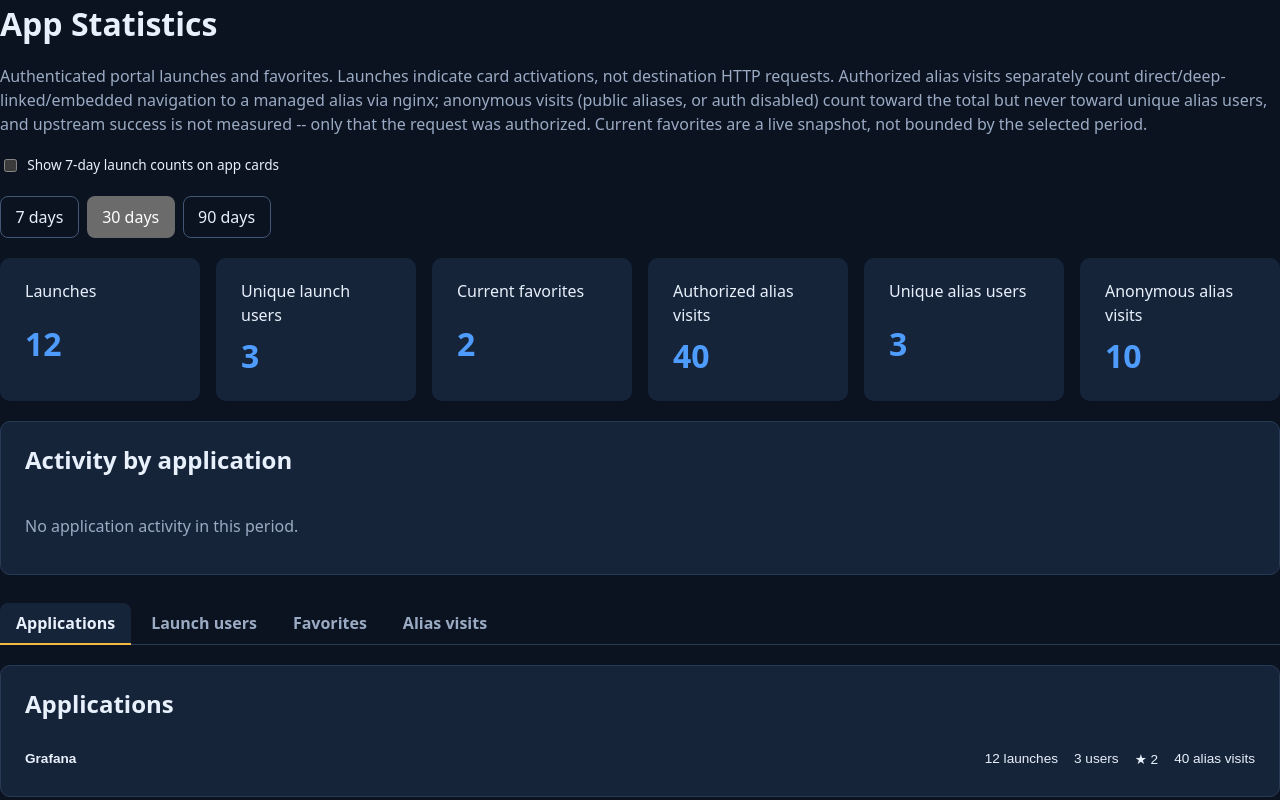
AppStatisticsView › shows the complete launch-users list on its tab
Expected: the text "Authorized alias visits" is shown, [673,280,794,326]
Click the button "Launch users": (204, 624) [135,603,273,645]
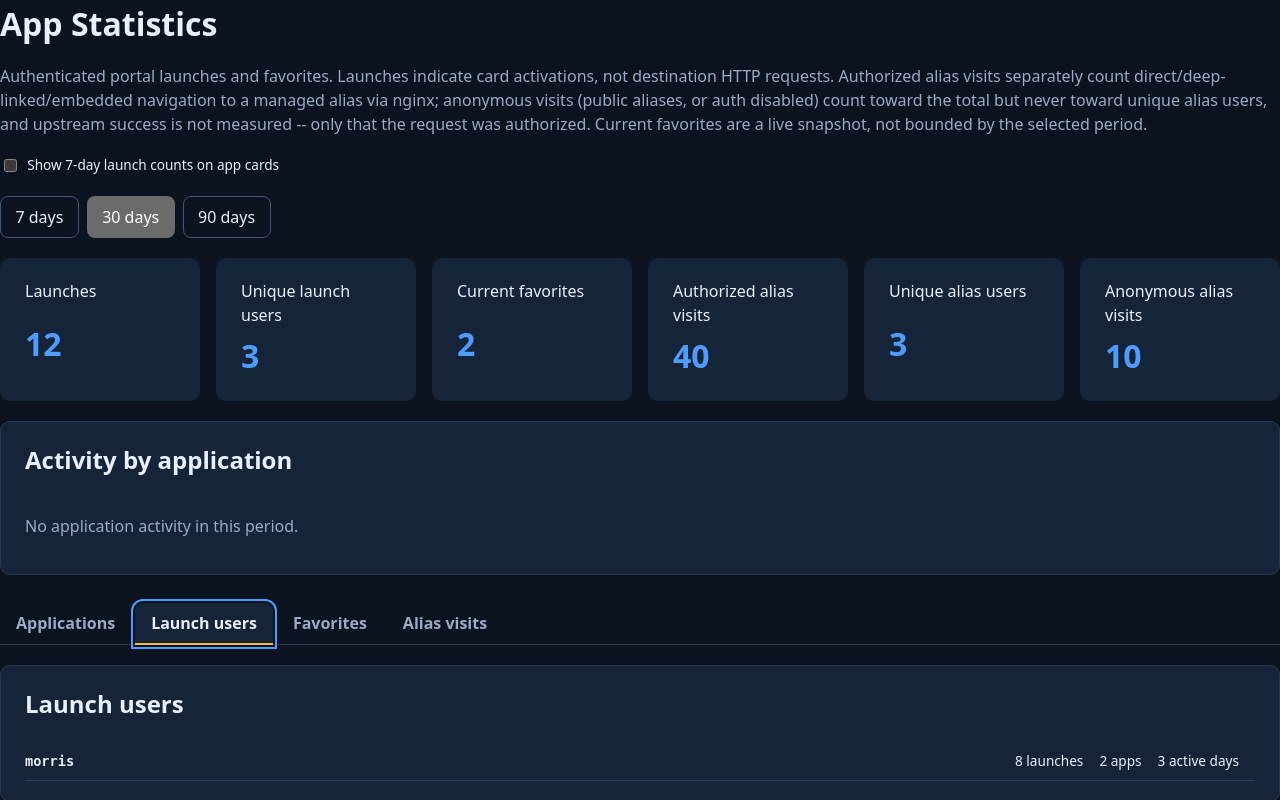
Now the text "morris" is shown, box [25,753,74,769]
Now the text "8 launches" is shown, box [1015,751,1083,771]
